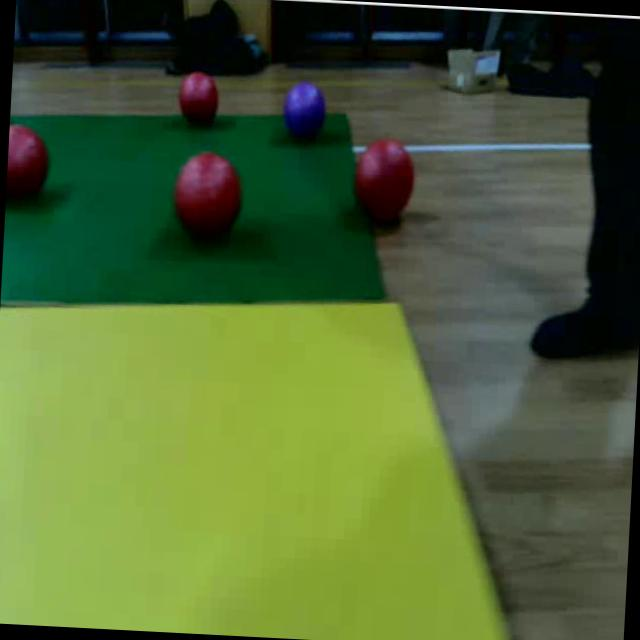purple_ball: (281, 81, 331, 143)
red_ball: (168, 145, 246, 251), (351, 136, 418, 221), (5, 118, 59, 214), (178, 68, 224, 133)
